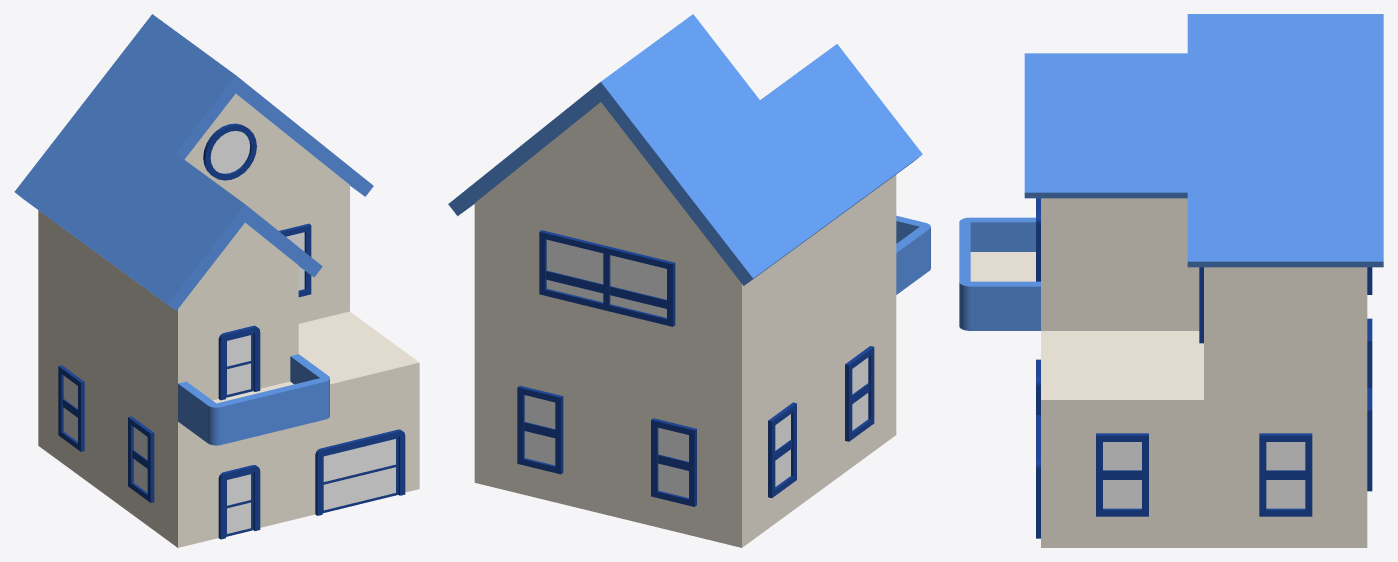
The model's file is M1_House01.fbx.
3 views of the same model, side by side, from view 1: azimuth 30°, elevation 25°; view 2: azimuth 150°, elevation 25°; view 3: azimuth 270°, elevation 25° (orthographic). The views are drawn at different scales.
Parts seen in each view (by area): view 1: mergedBlocks; view 2: mergedBlocks; view 3: mergedBlocks.
Boxes of the visible parts, bbox=[...] form: mergedBlocks: bbox=[14, 14, 419, 547]; mergedBlocks: bbox=[448, 14, 930, 547]; mergedBlocks: bbox=[959, 14, 1383, 547].
Size of the model in its own units: 22.83 by 31.41 by 26.
